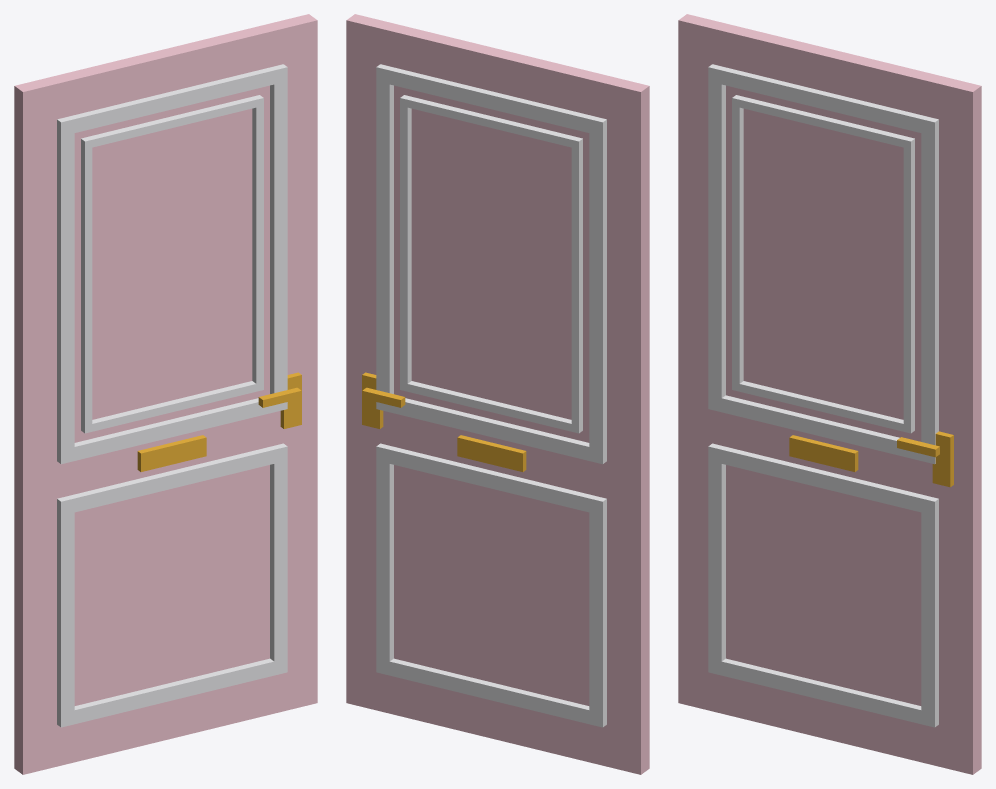
The model's file is SM_Door_girls_inner_100x220.fbx.
3 views of the same model, side by side, from view 1: azimuth 30°, elevation 25°; view 2: azimuth 150°, elevation 25°; view 3: azimuth 330°, elevation 25° (orthographic).
Parts seen in each view (by area): view 1: SM_Door_girls_inner_100x220; view 2: SM_Door_girls_inner_100x220; view 3: SM_Door_girls_inner_100x220.
Boxes of the visible parts, box(x1,y1,x2,y2) form: SM_Door_girls_inner_100x220: box(14, 14, 317, 774); SM_Door_girls_inner_100x220: box(346, 14, 649, 774); SM_Door_girls_inner_100x220: box(678, 14, 981, 774).
Size of the model in its own units: 0.988 by 2.19 by 0.175.
